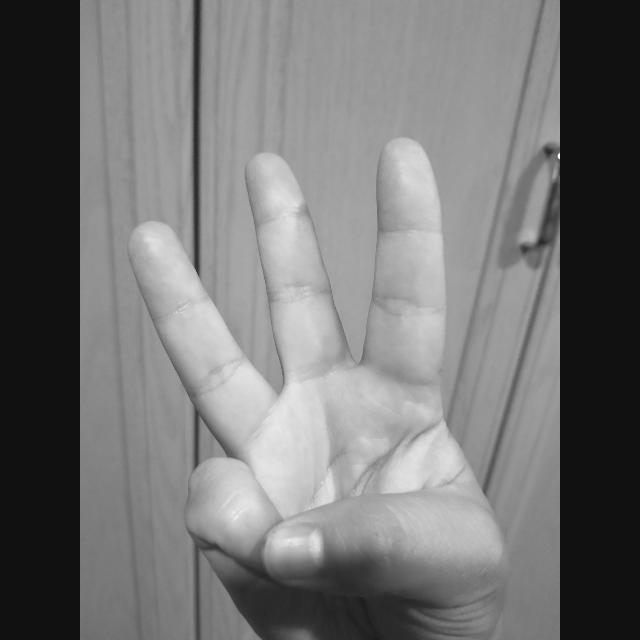W: (121, 132, 518, 640)
